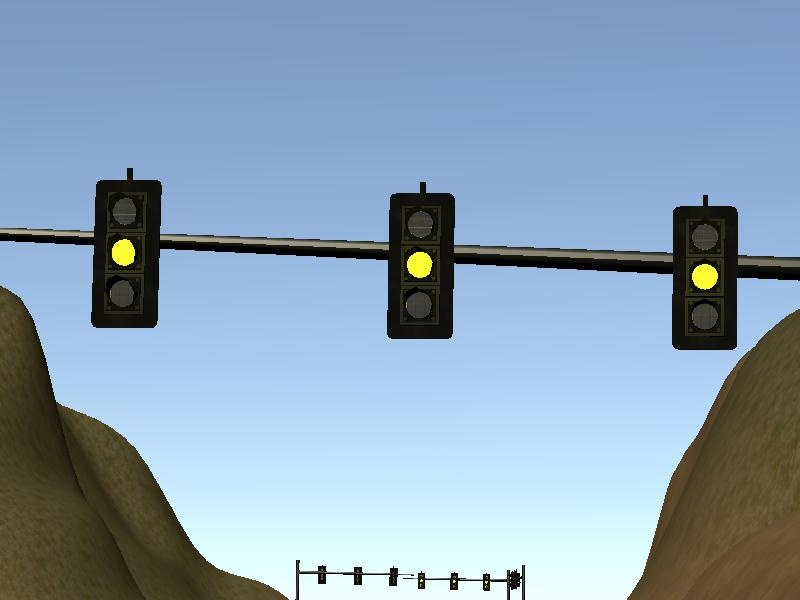YELLOW: (91, 180, 162, 330), (669, 203, 737, 352), (386, 192, 454, 341)
